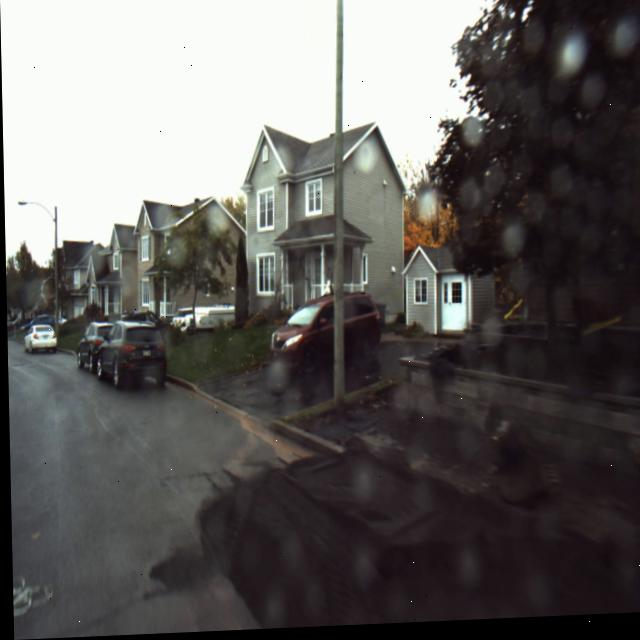car: (261, 285, 384, 372)
